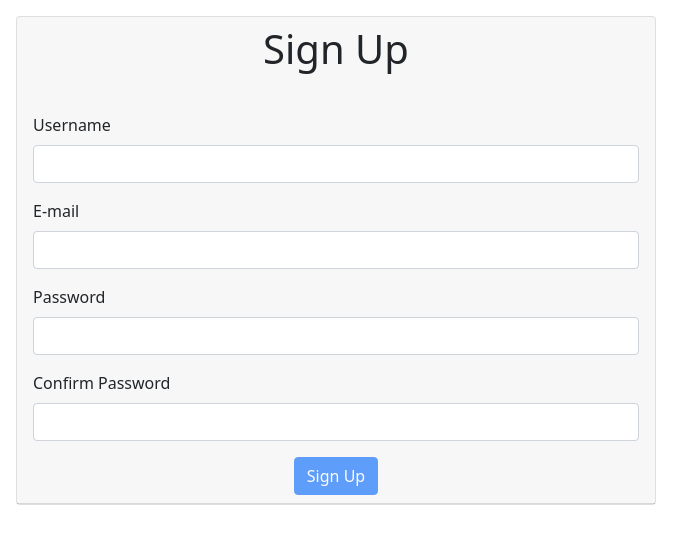
Scenario: Sign Up Page › Interactions › displays the E-mail cannot be null message for the field email
Type "user1" into the field labelled "Username" at (336, 164), box [33,145,639,183]
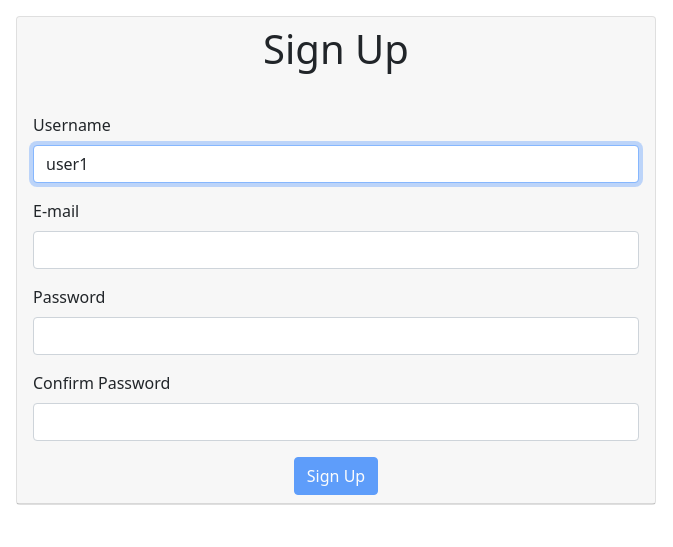
Type "user1@mail.com" into the field labelled "E-mail" at (336, 250), box [33,231,639,269]
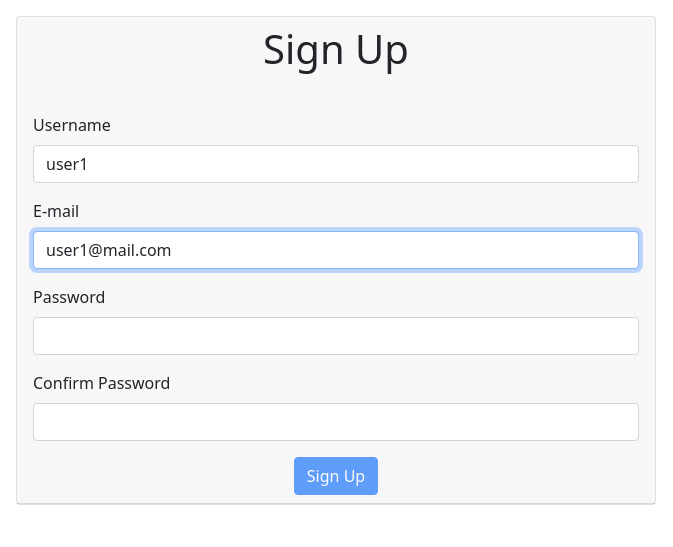
Type "P4ssword" into the password field labelled "Password" at (336, 336), box [33,317,639,355]
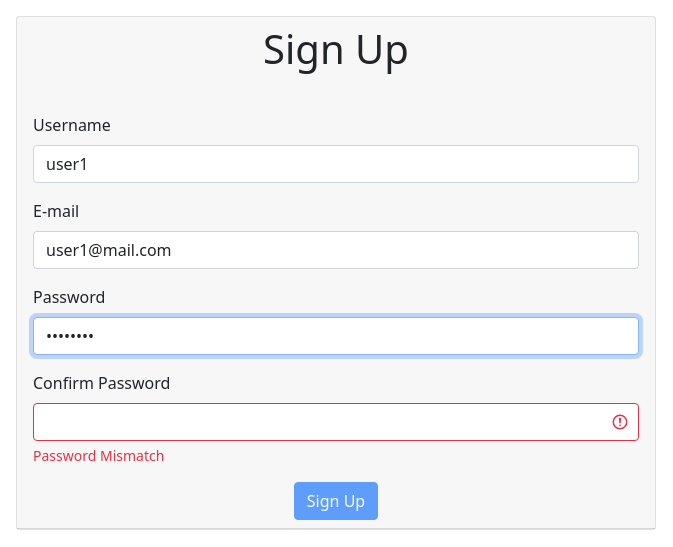
Type "P4ssword" into the password field labelled "Confirm Password" at (336, 422), box [33,403,639,441]
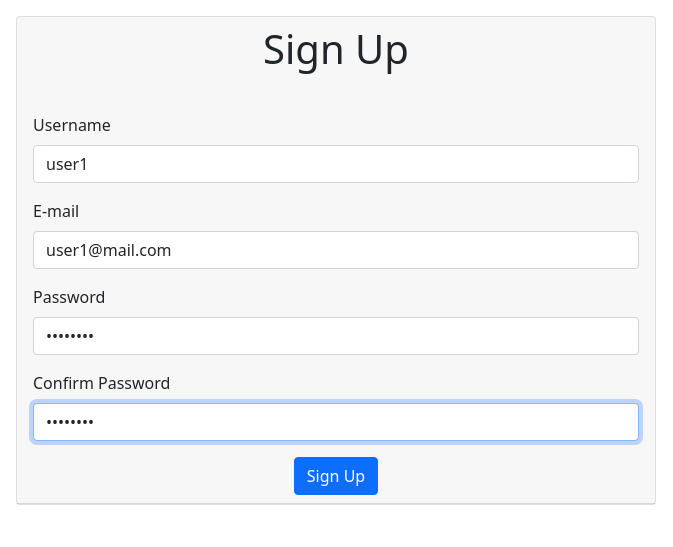
Click the button "Sign Up" at (336, 476), box [294,457,378,495]
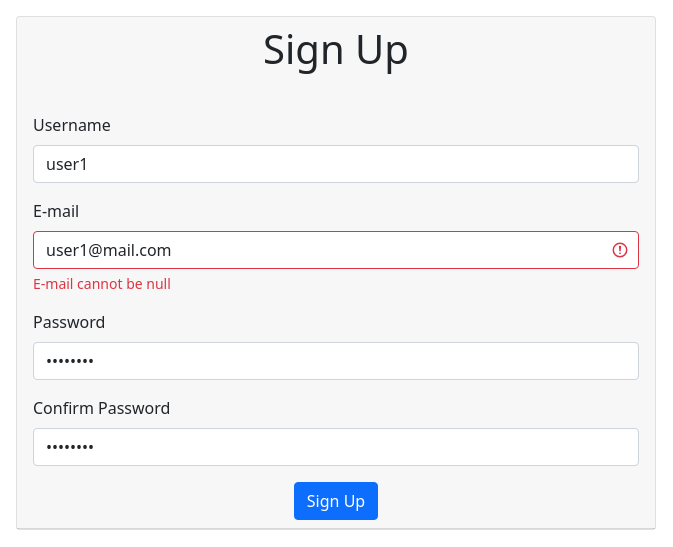
Check: the text "E-mail cannot be null" is shown, box [33,274,171,293]
